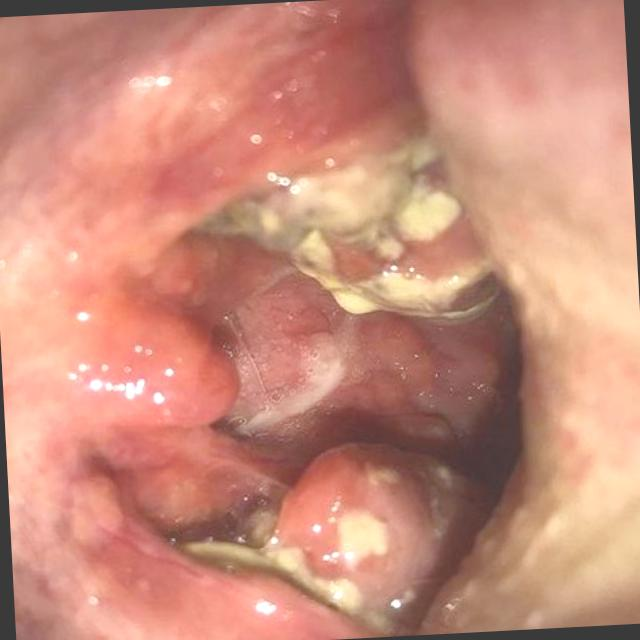pharyngitis: (199, 73, 512, 352), (190, 430, 489, 639)
